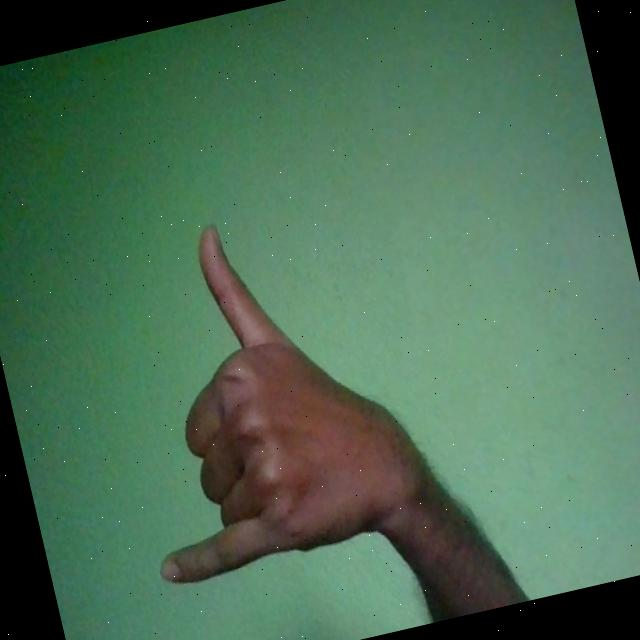Call Me: (88, 186, 448, 592)
